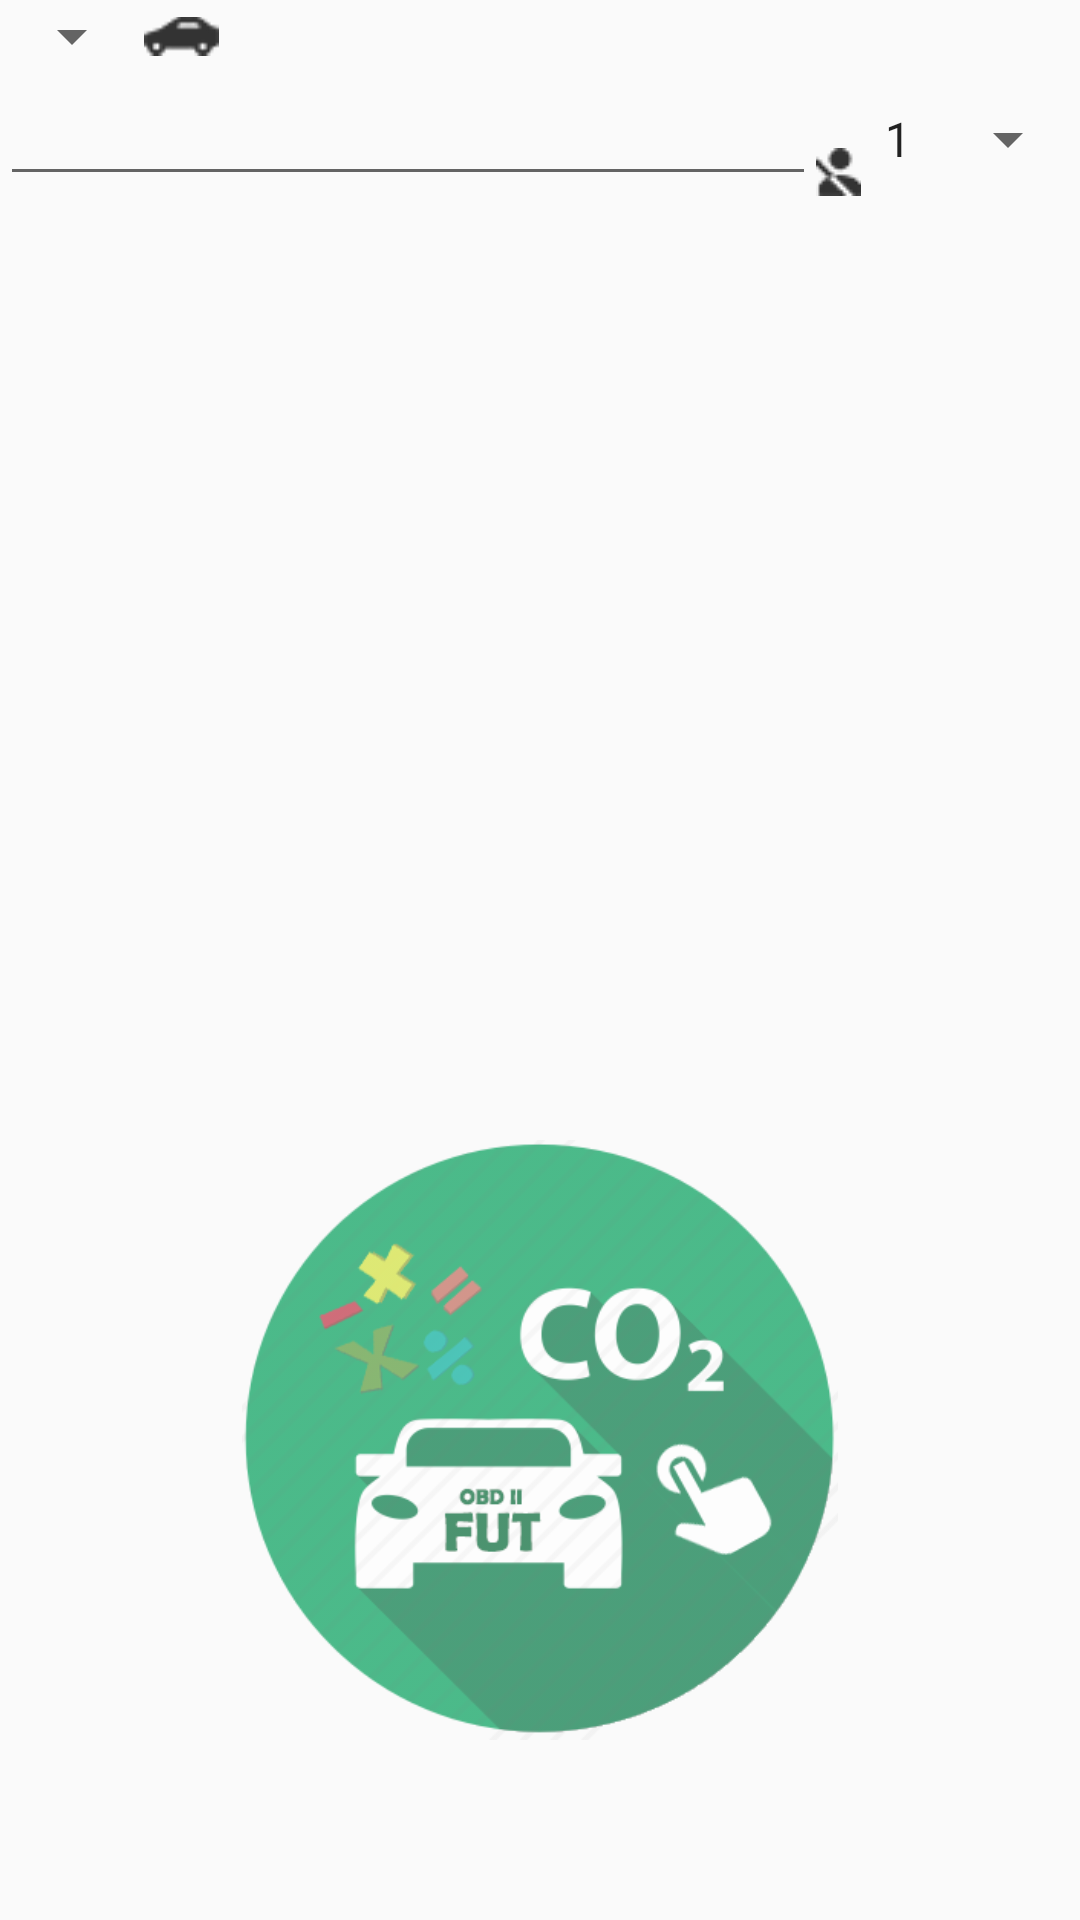

Locate icon controls on the screen. Image size 1080 × 1920, boxes as (x1, y1, x2, y2).
car: (144, 17, 219, 56)
pass: (816, 148, 861, 196)
